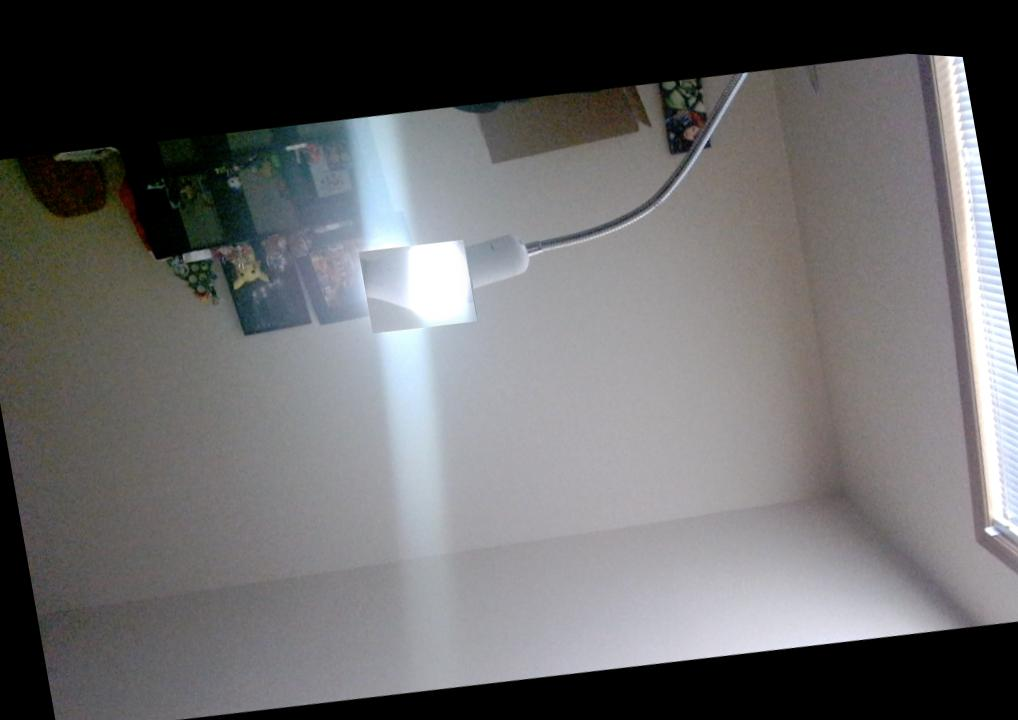TubeLight: (358, 229, 478, 334)
